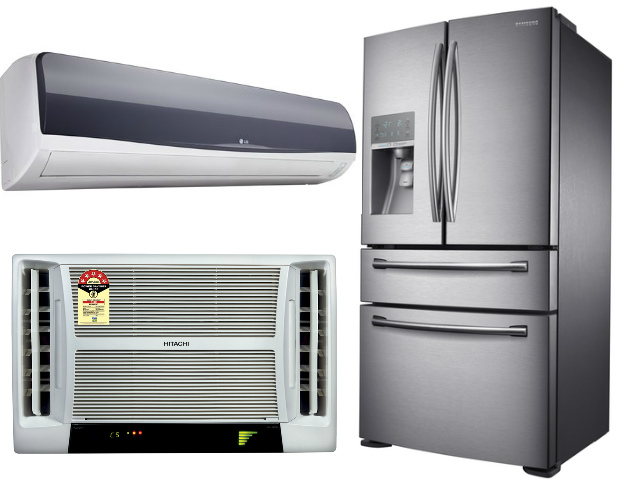AC: (2, 100, 340, 186)
Refrigerator: (365, 38, 606, 435)
